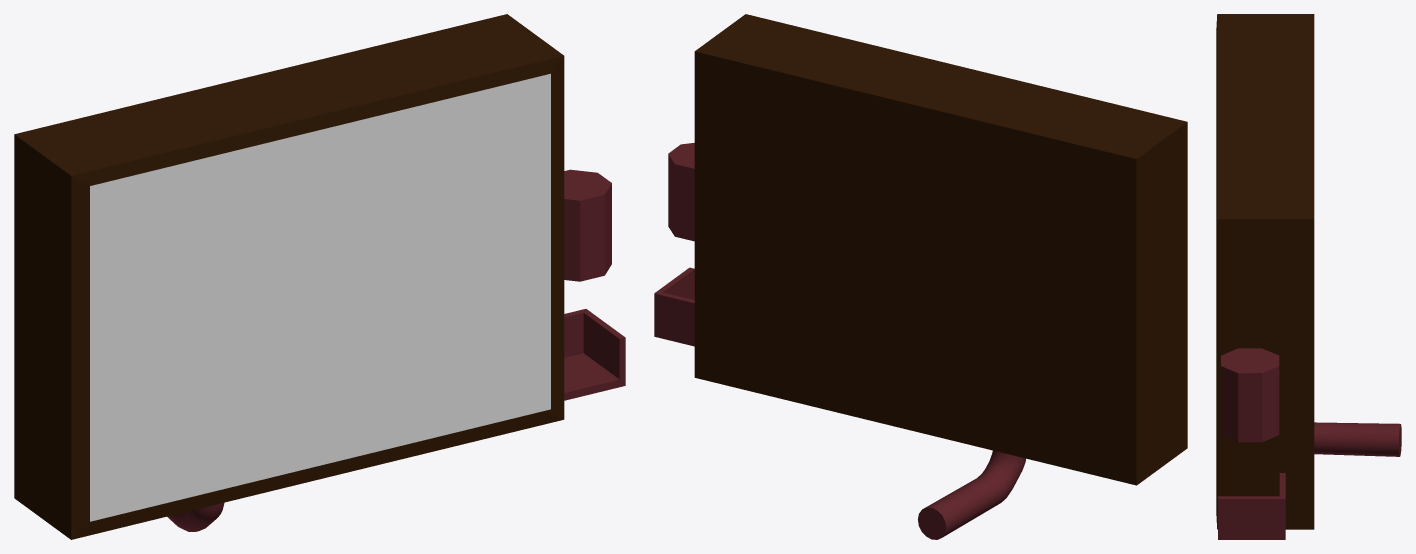
Rendered from Minigioco.fbx.
The picture shows the model from 3 angles, left to right: view 1: azimuth 30°, elevation 25°; view 2: azimuth 150°, elevation 25°; view 3: azimuth 270°, elevation 25°; orthographic projection. The views are drawn at different scales.
Visible parts, largest first — view 1: Vetro, Minigioco, Raccoglitore, PiattaformaPalla; view 2: Minigioco, PiattaformaPalla, Raccoglitore; view 3: Minigioco, Raccoglitore, PiattaformaPalla.
Boxes of the visible parts, x1,y1,x2,y2 form: Vetro: (90,73,550,521); Minigioco: (14,14,564,539); Raccoglitore: (564,169,611,281); PiattaformaPalla: (564,309,625,400); Minigioco: (694,14,1187,539); PiattaformaPalla: (654,267,694,346); Raccoglitore: (668,143,694,241); Minigioco: (1216,14,1401,529); Raccoglitore: (1221,348,1279,442); PiattaformaPalla: (1218,473,1285,539).
Size of the model in its own units: 234 by 173 by 79.33.
